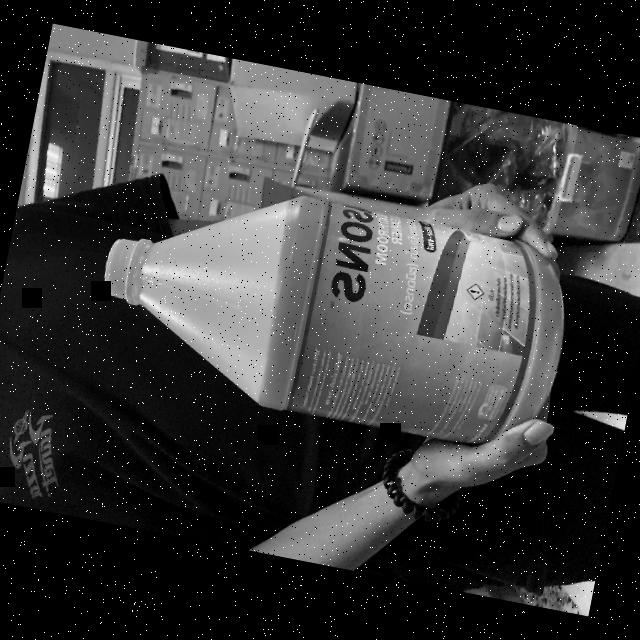chemical_plastic_gallon: (75, 155, 584, 470)
